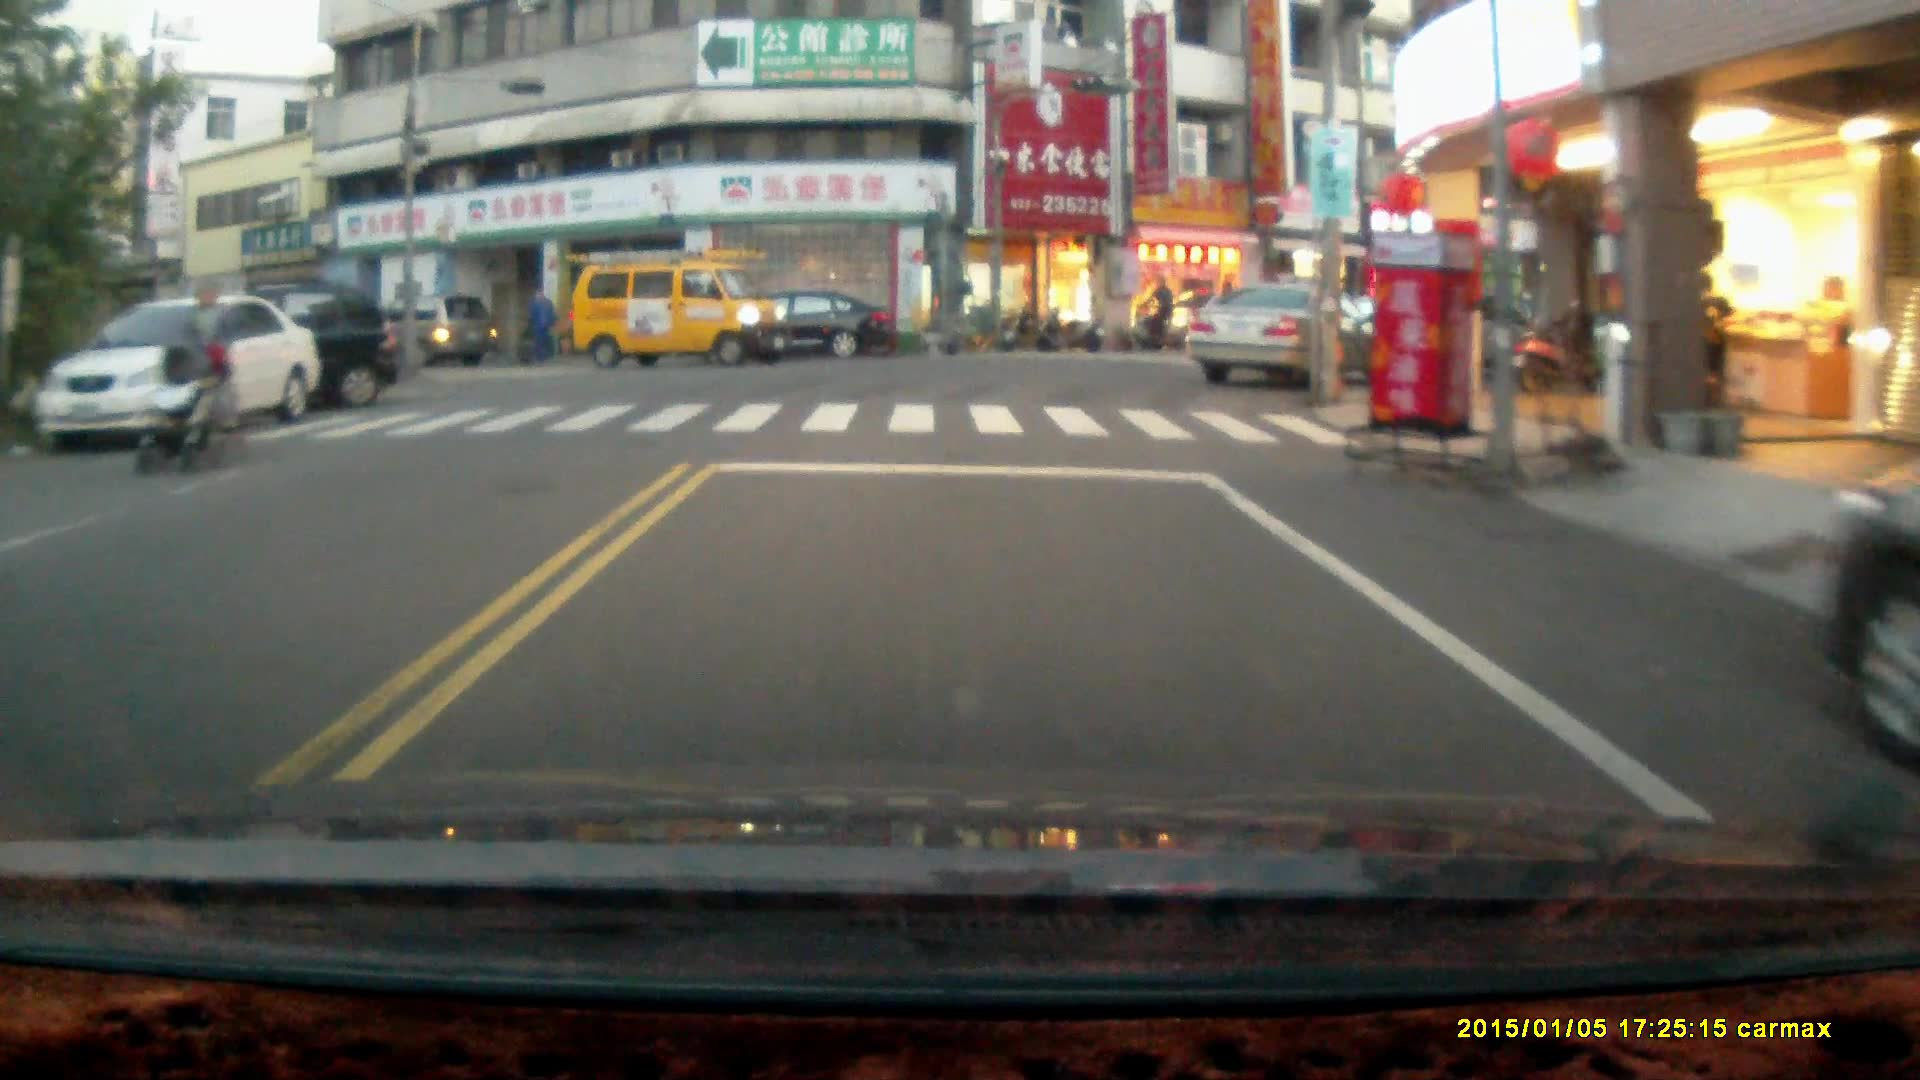pedestrian: (181, 275, 231, 442), (1696, 270, 1732, 422), (528, 285, 556, 363)
rider: (130, 332, 232, 475), (1122, 274, 1183, 357)
vehicle: (43, 293, 313, 449), (120, 276, 400, 410), (574, 245, 793, 368), (1189, 281, 1379, 393), (717, 292, 889, 367), (365, 290, 499, 371)
